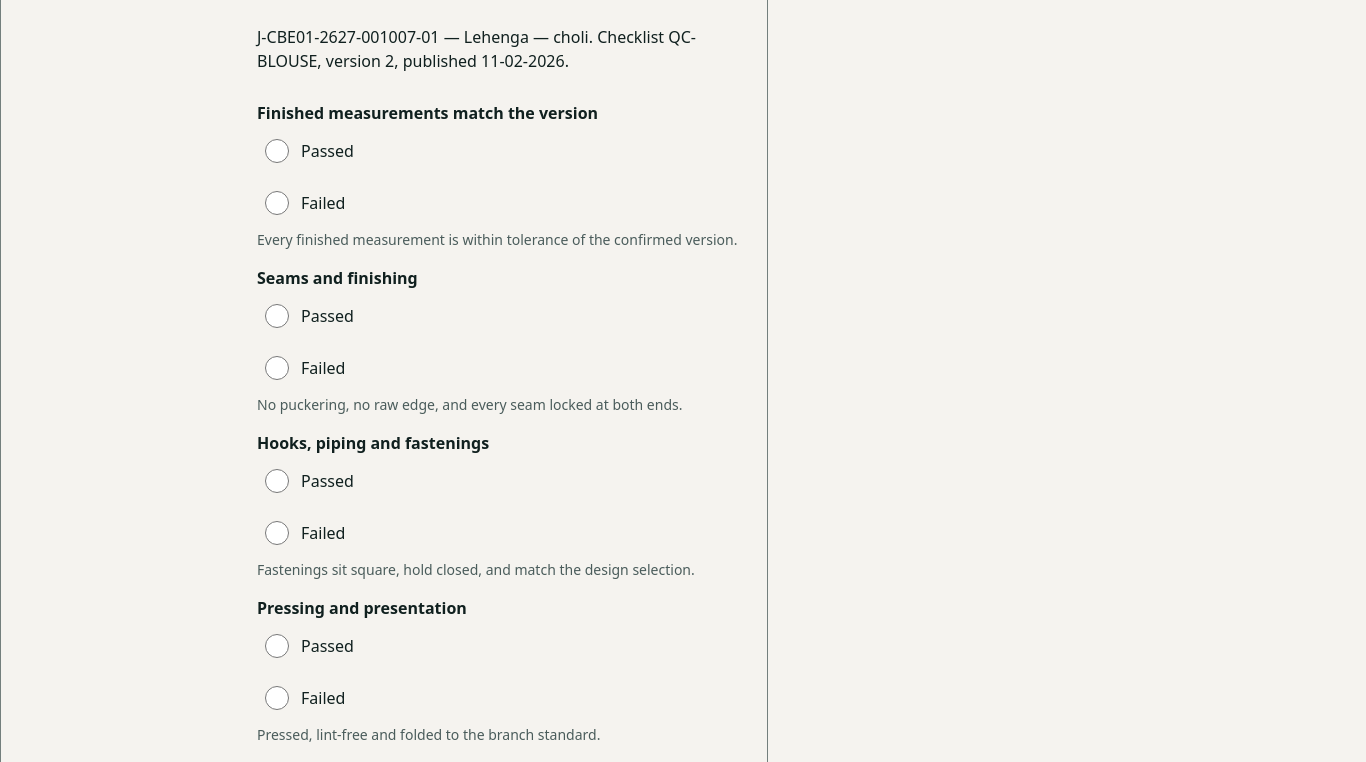
Scenario: A11Y-RJ-04 — Tailor Master: workboard, assignment and QC › records a rework beside the earlier QC pass rather than in place of it
(page scrolled)
Click the radio button labelled "Failed" below "Seams and finishing": x=277, y=368 [265,356,289,380]
(page scrolled)
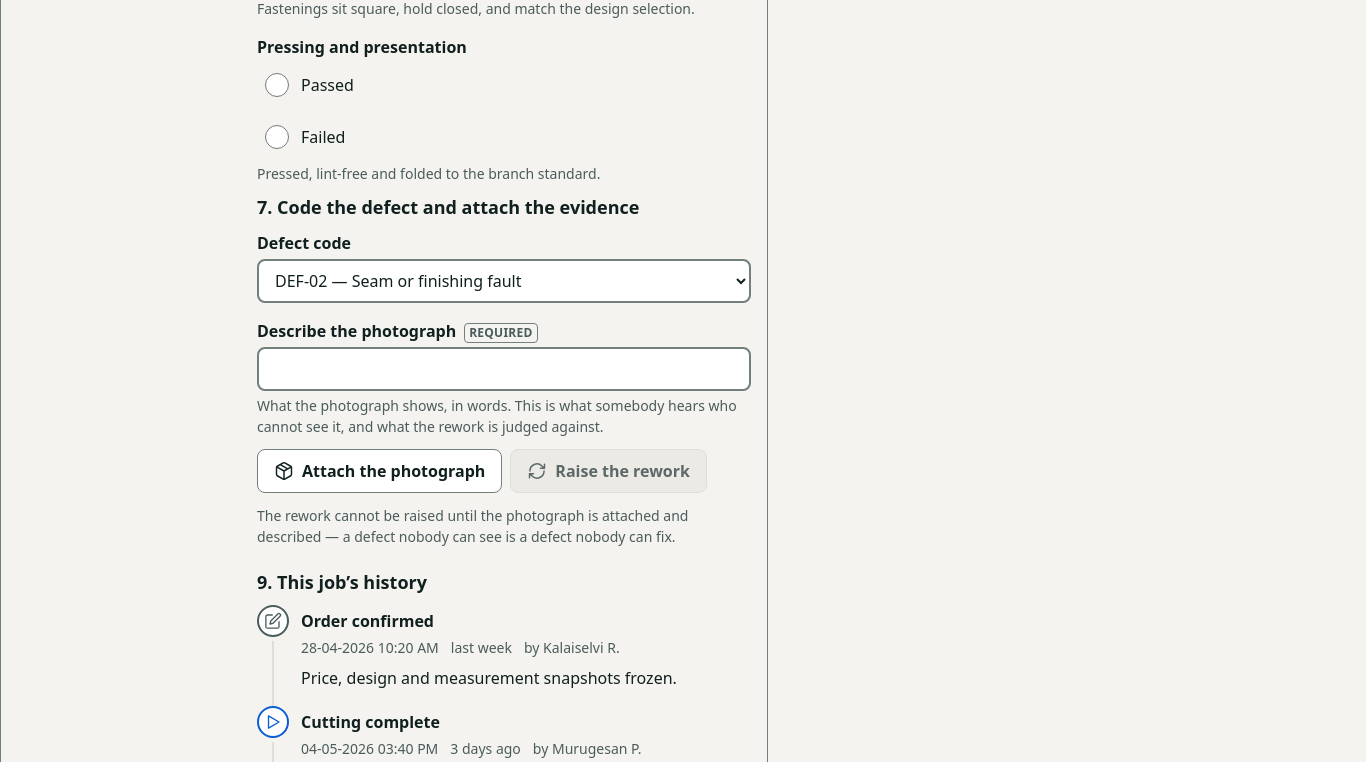
In the field labelled "Describe the photograph": x=504, y=369 [257,347,751,391], type "Puckering along the left side seam, about four inches."
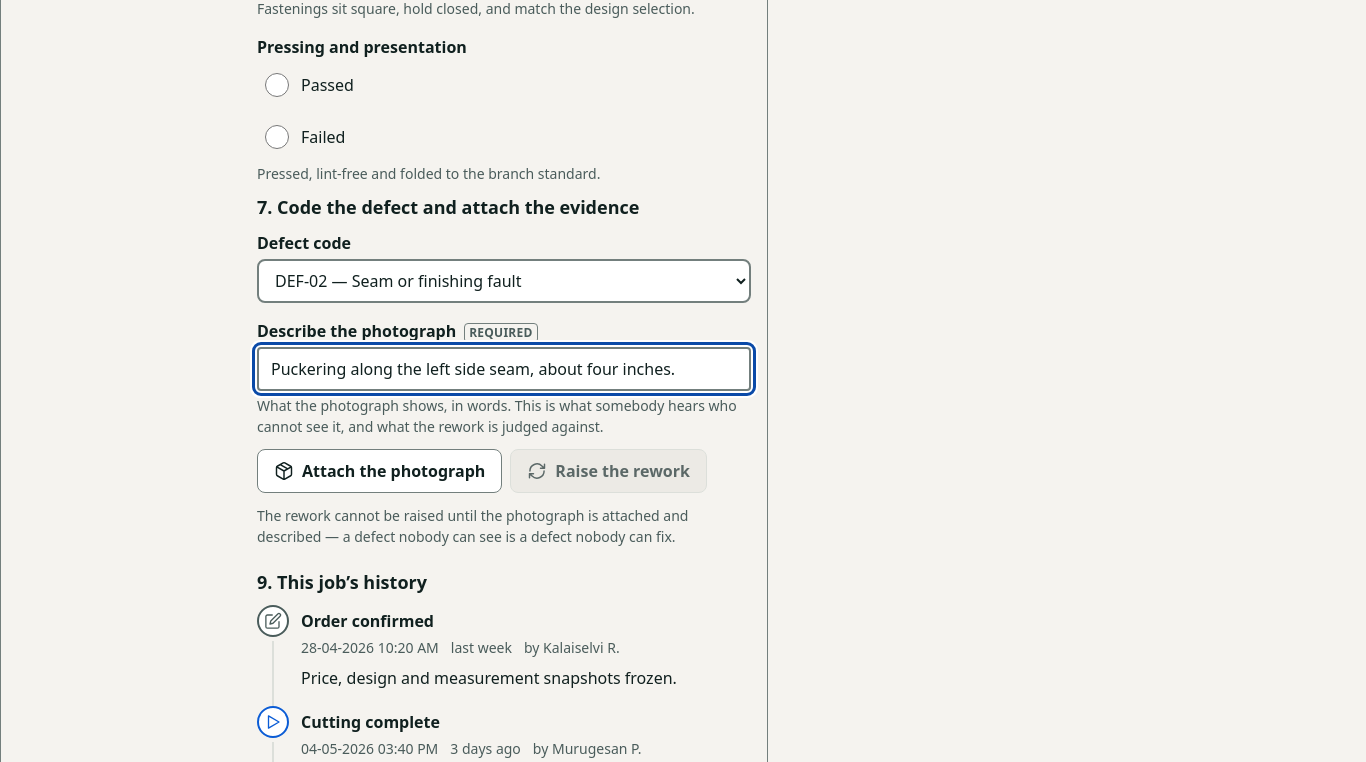
Click the button "Attach the photograph": x=380, y=471 [257,449,502,493]
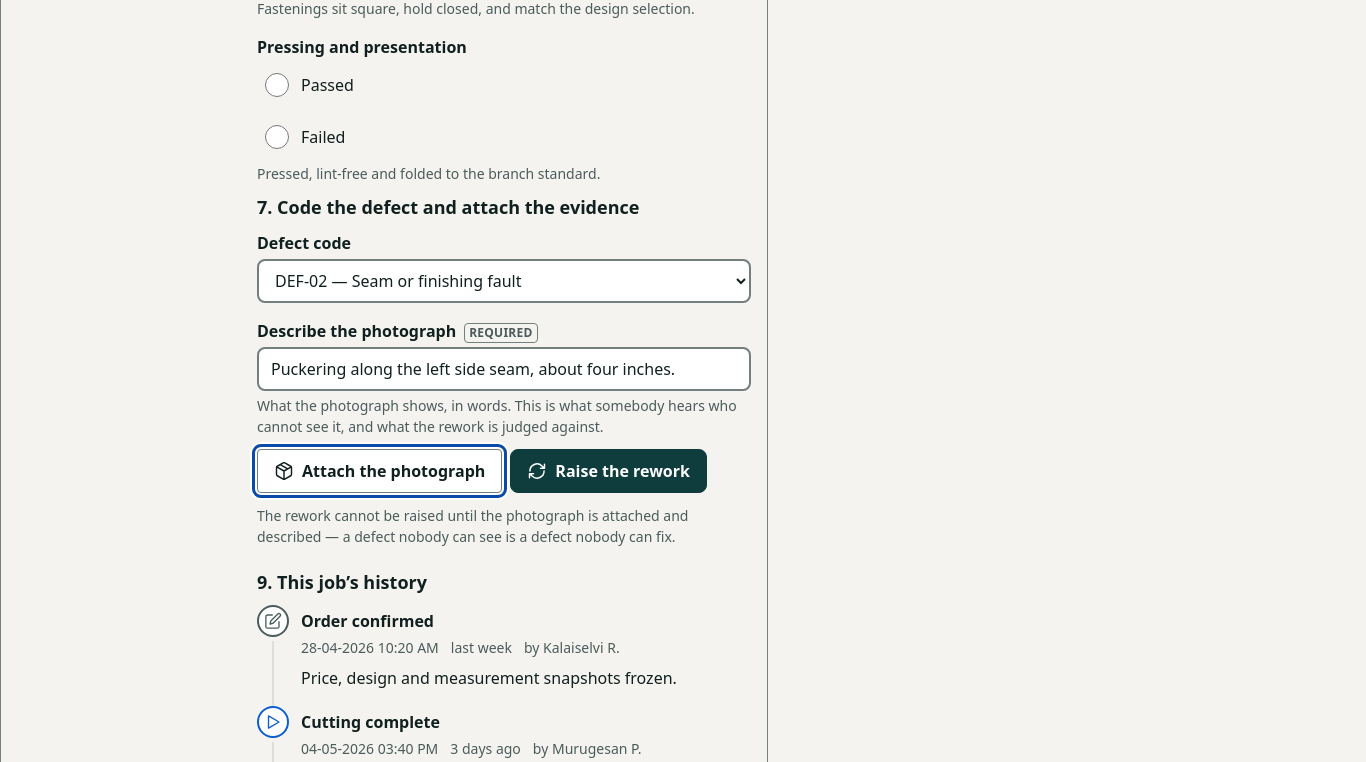
Click the button "Raise the rework": x=609, y=471 [510,449,707,493]
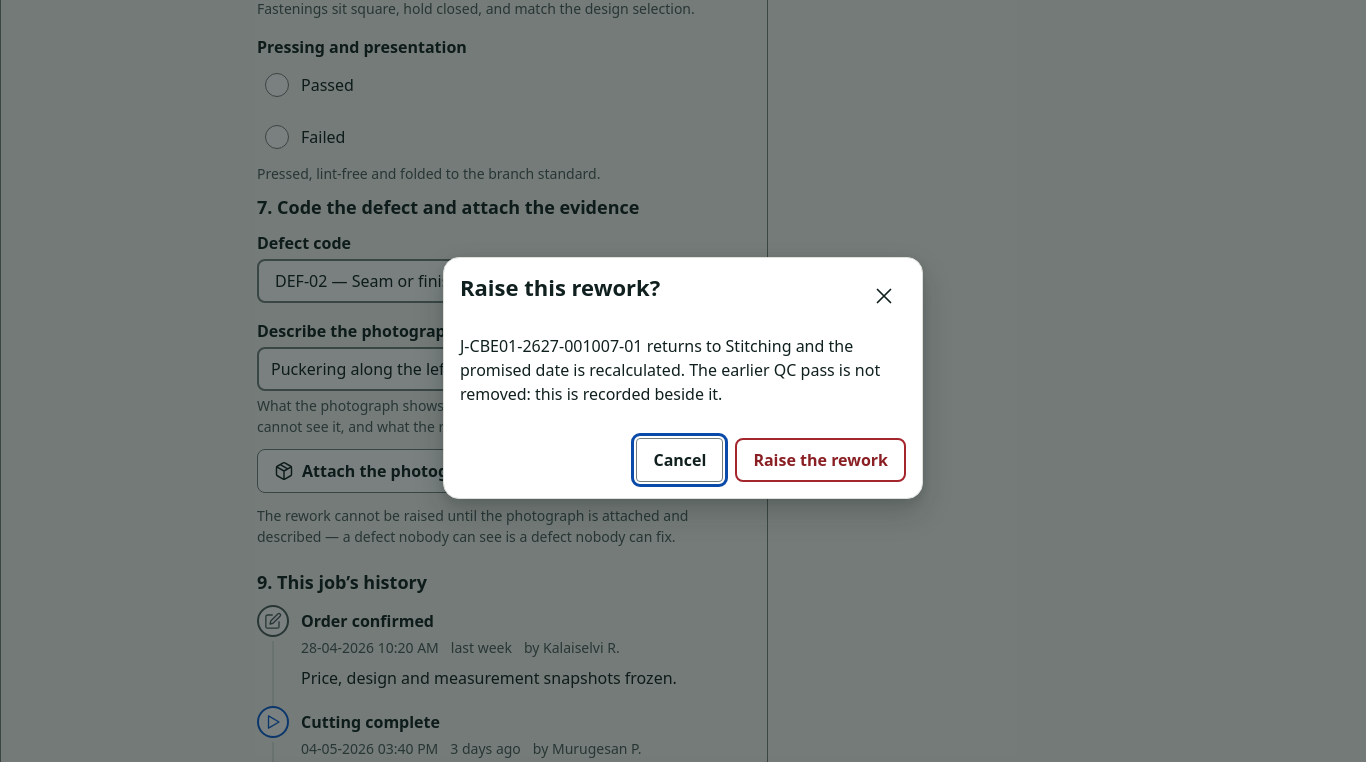
Click the button "Raise the rework": x=821, y=460 [735,438,906,482]
(page scrolled)
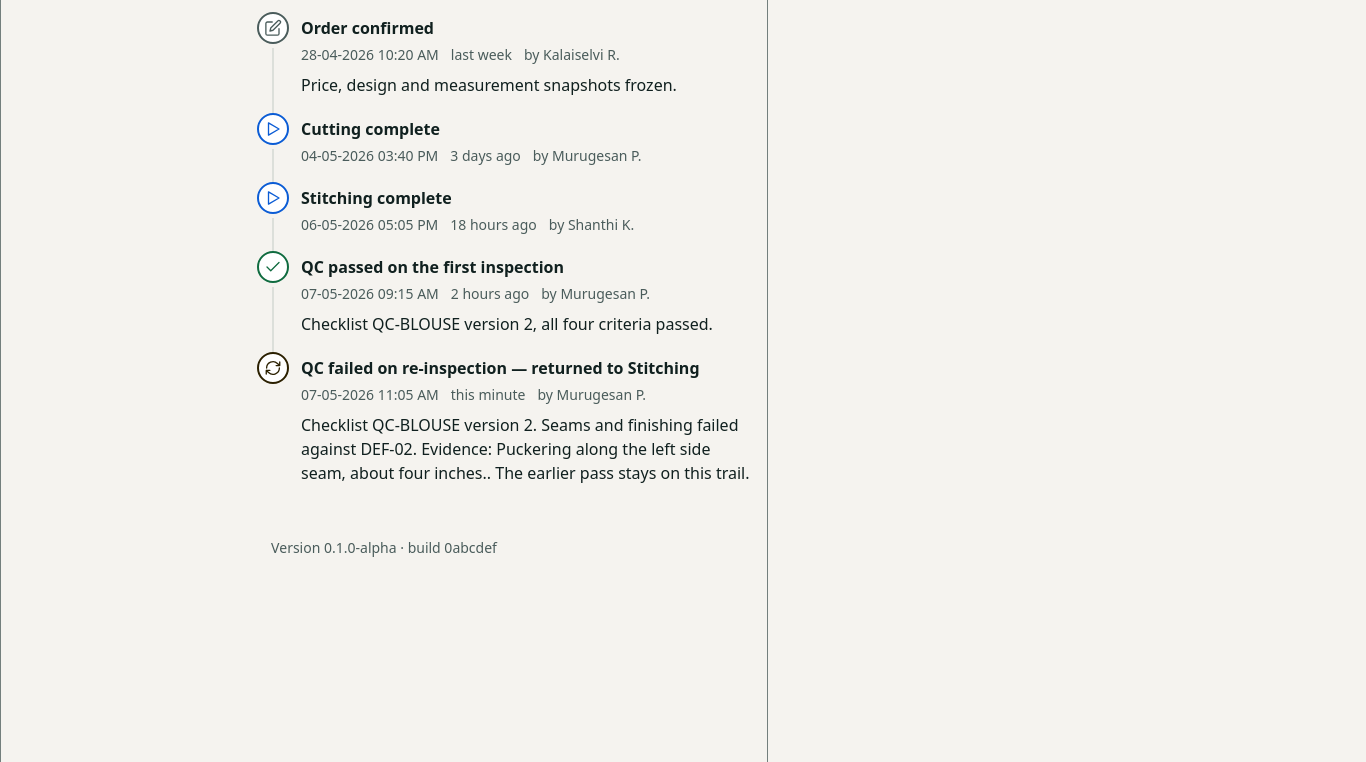
Now the text "QC passed on the first inspection" is shown, box [301,256,564,278]
Now the text "QC failed on re-inspection — returned to Stitching" is shown, box [301,356,751,380]
